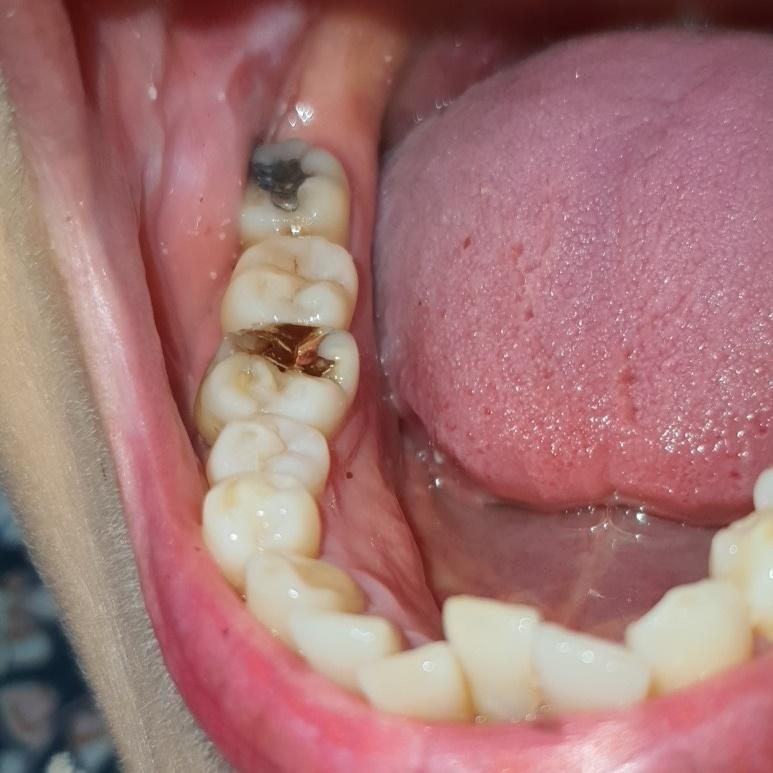Crowding: (362, 594, 653, 721)
